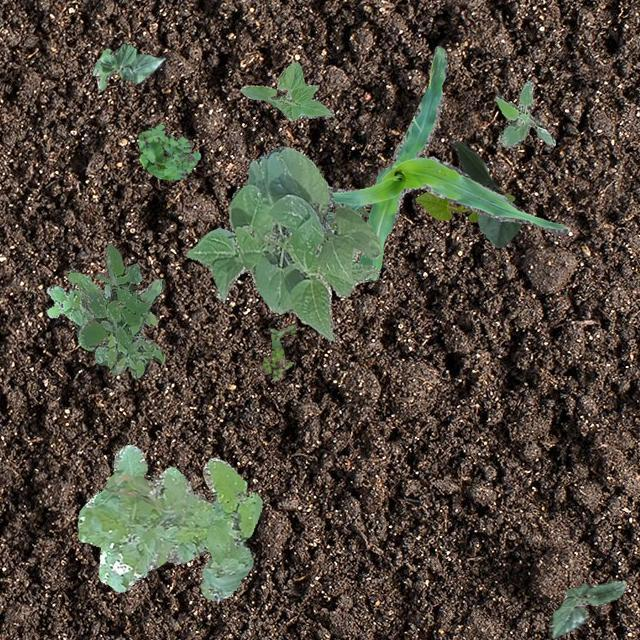crop: (328, 44, 568, 280), (186, 146, 380, 340), (452, 140, 520, 246), (240, 62, 332, 120), (548, 578, 624, 638), (92, 42, 164, 88), (414, 190, 514, 220)
weed: (77, 444, 260, 600), (45, 268, 164, 376), (80, 242, 150, 348), (494, 80, 554, 146), (136, 122, 200, 178), (260, 324, 294, 380), (326, 206, 368, 228)
